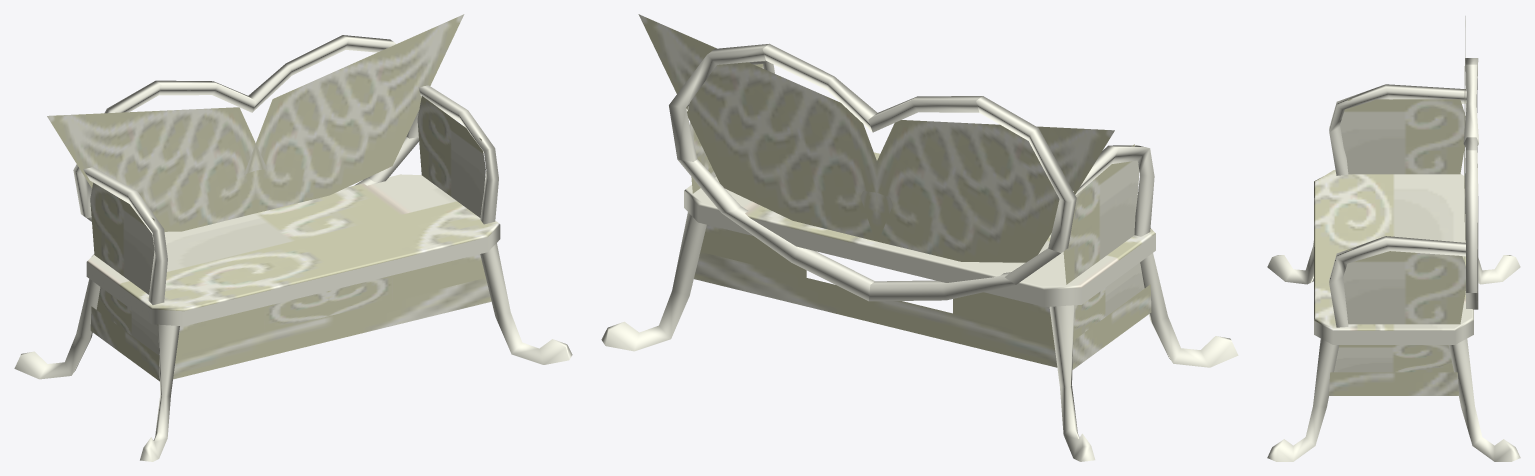
The model's file is int_oth_cupid_chairL.dae.
3 views of the same model, side by side, from view 1: azimuth 30°, elevation 25°; view 2: azimuth 150°, elevation 25°; view 3: azimuth 270°, elevation 25° (orthographic). The views are drawn at different scales.
Visible parts, largest first — view 1: int_oth_cupid_chairL; view 2: int_oth_cupid_chairL; view 3: int_oth_cupid_chairL.
Boxes of the visible parts, x1,y1,x2,y2 form: int_oth_cupid_chairL: [14, 14, 572, 461]; int_oth_cupid_chairL: [601, 14, 1238, 461]; int_oth_cupid_chairL: [1267, 16, 1520, 461].
Size of the model in its own units: 57.4 by 35.4 by 31.
Materials: 1 (1 with a texture image).
